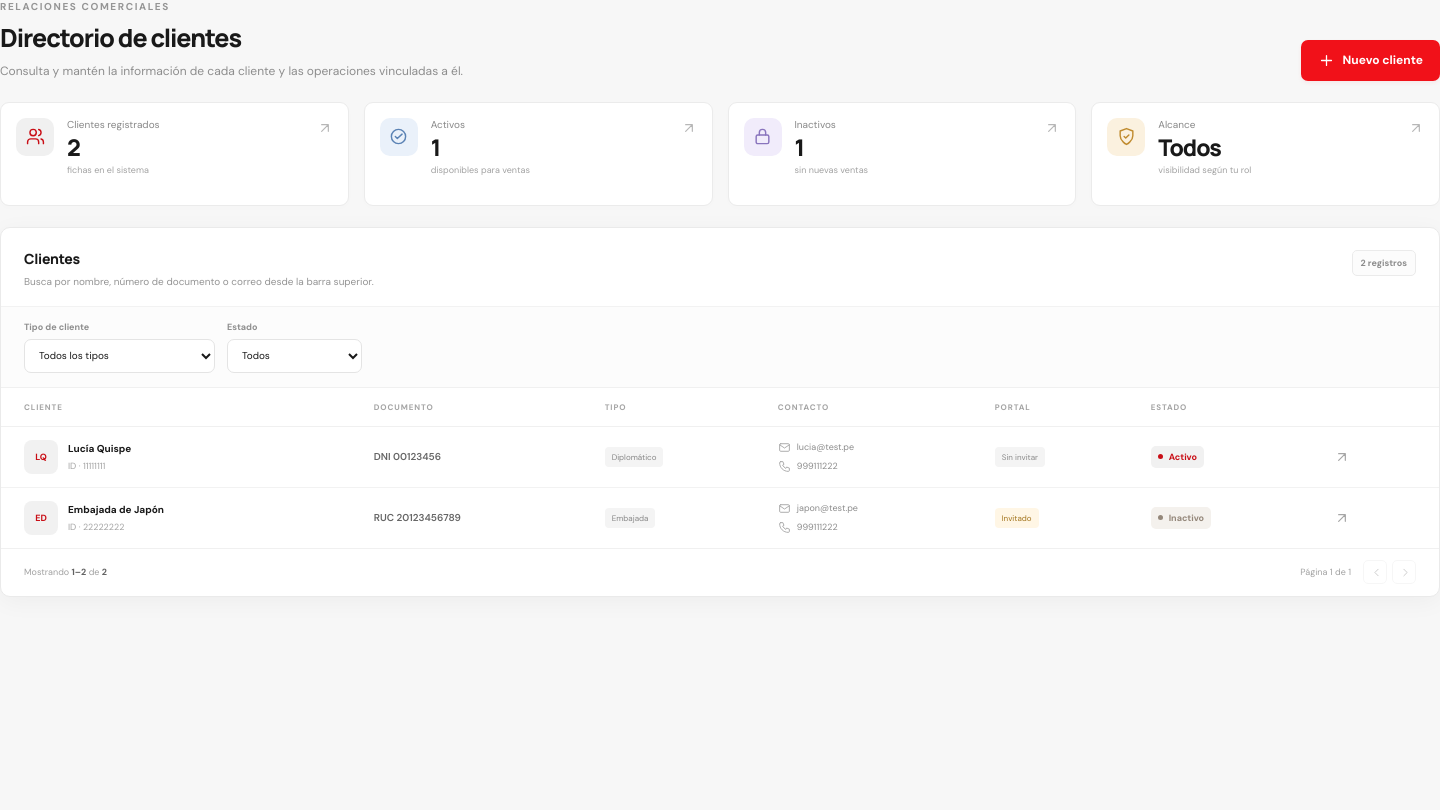
creating a customer › offers the existing customer instead of creating a duplicate
Check: the text "Lucía Quispe" is shown, box [68,442,131,455]
Click the button "Nuevo cliente".
click(1370, 60)  # box [1301,40,1439,81]
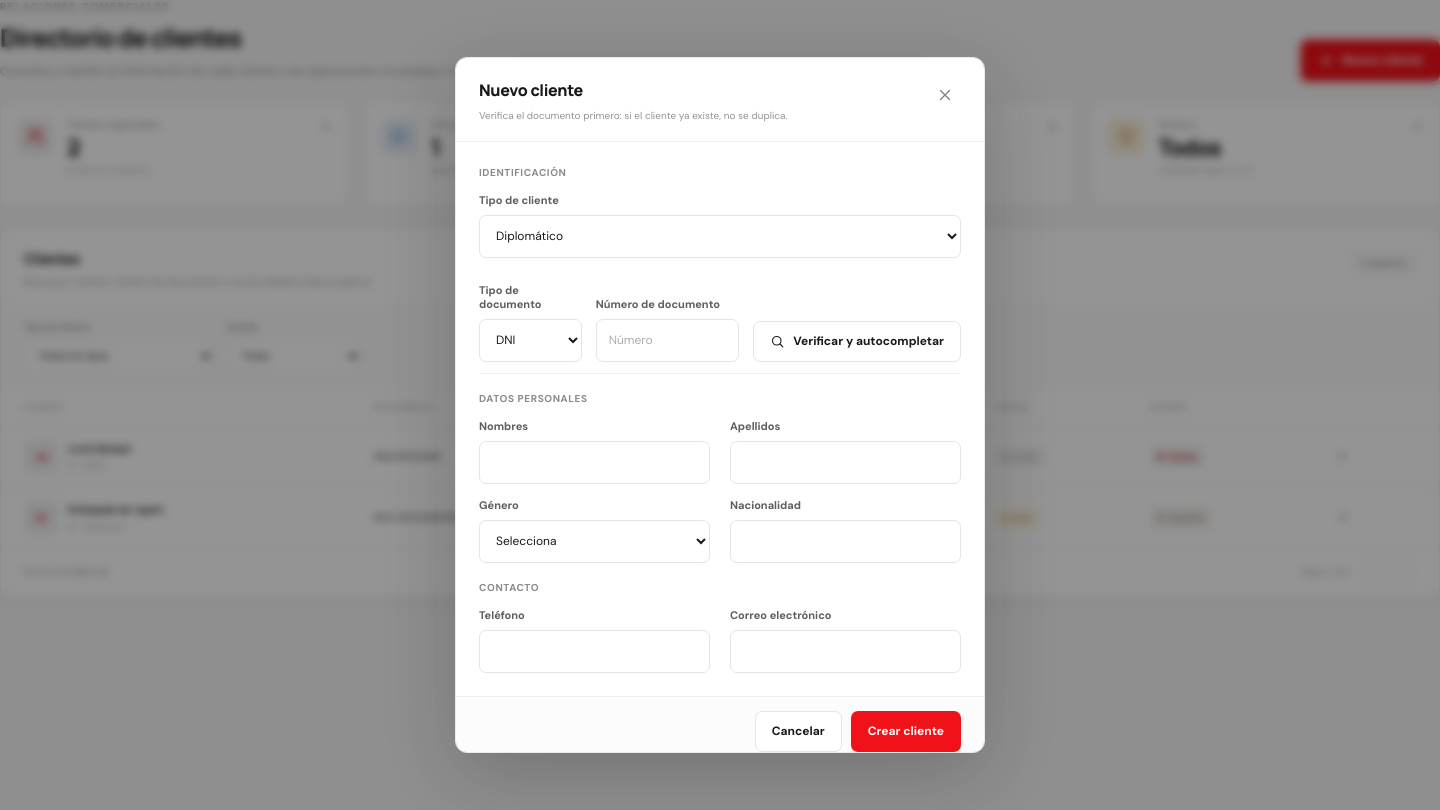
Type "00123456" into the field labelled "Número de documento".
click(667, 340); type("00123456")  # box [596,319,739,362]
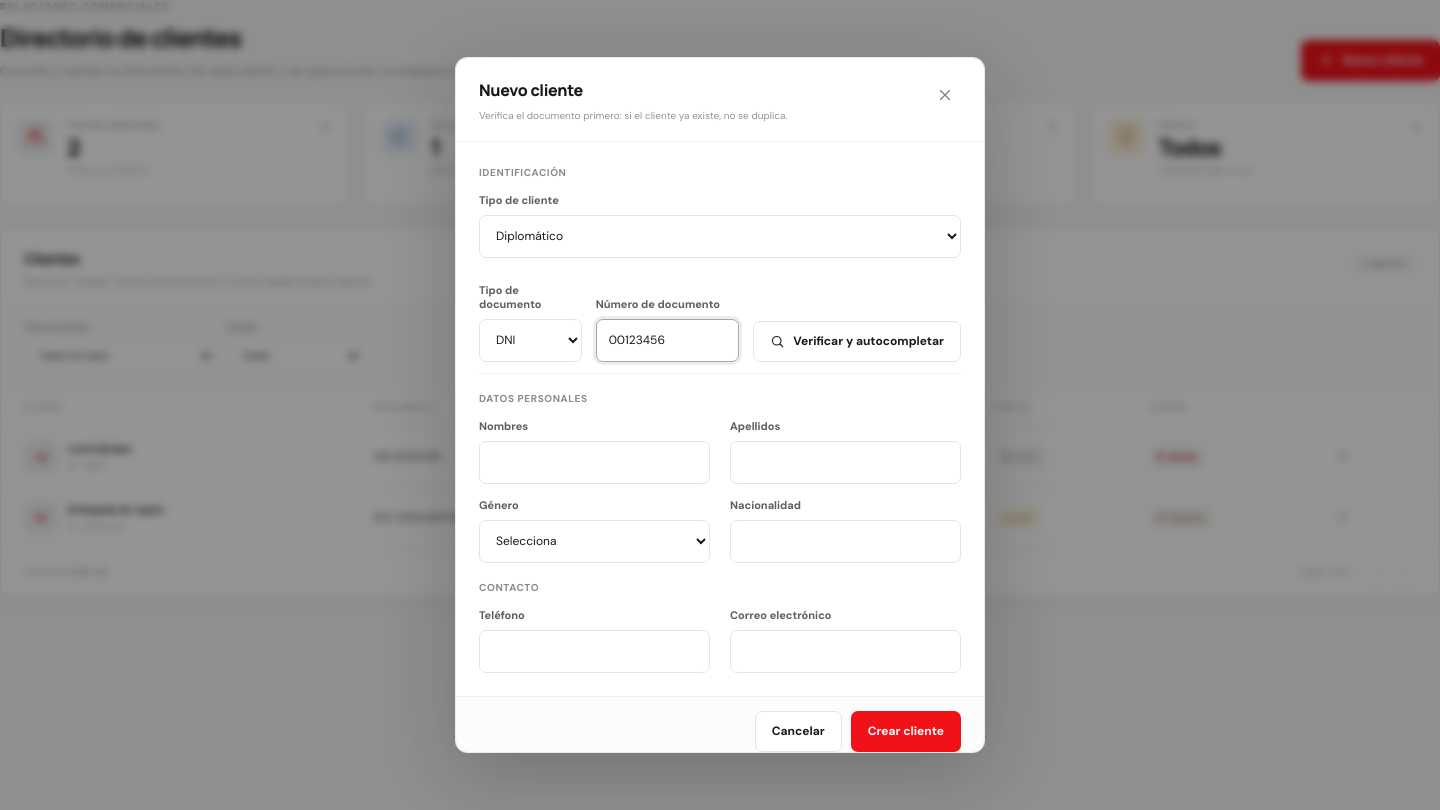
Click the button "Verificar y autocompletar".
click(857, 341)  # box [753,321,961,362]
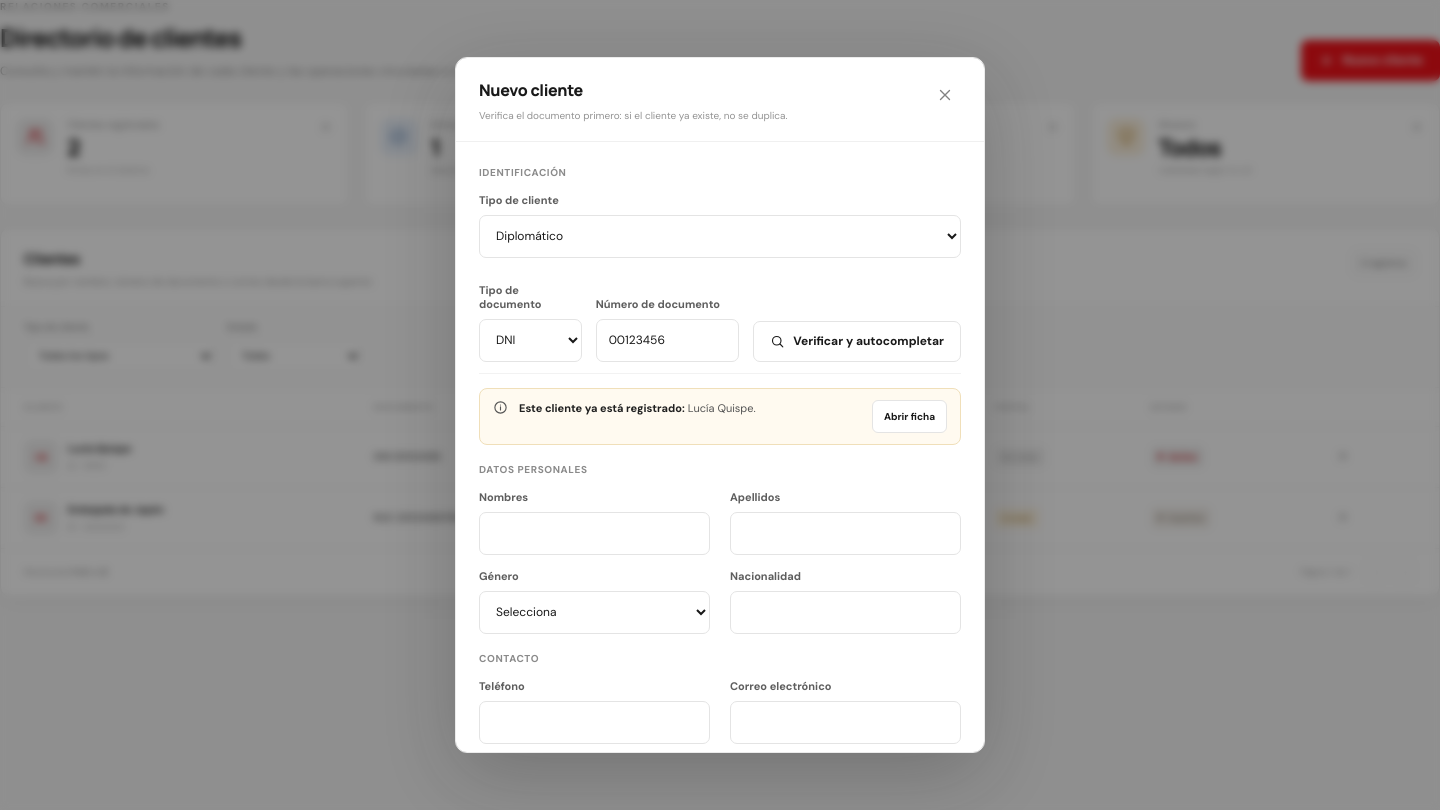
Check: the text "Este cliente ya está registrado:" is shown, box [519,401,685,415]
Click the button "Abrir ficha".
click(909, 416)  # box [872,400,947,433]
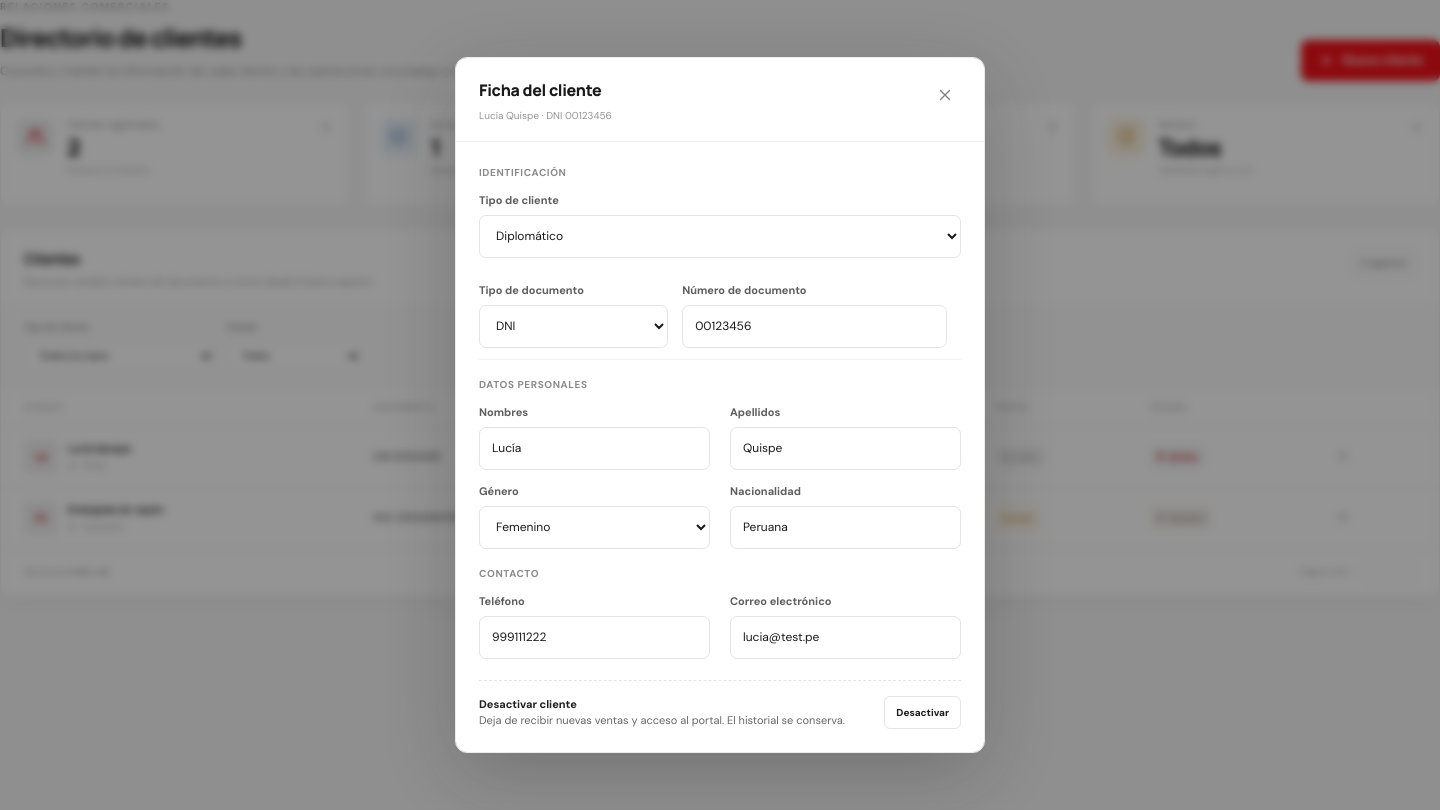
Check: the field labelled "Nombres" holds "Lucía", box [479,427,710,470]
